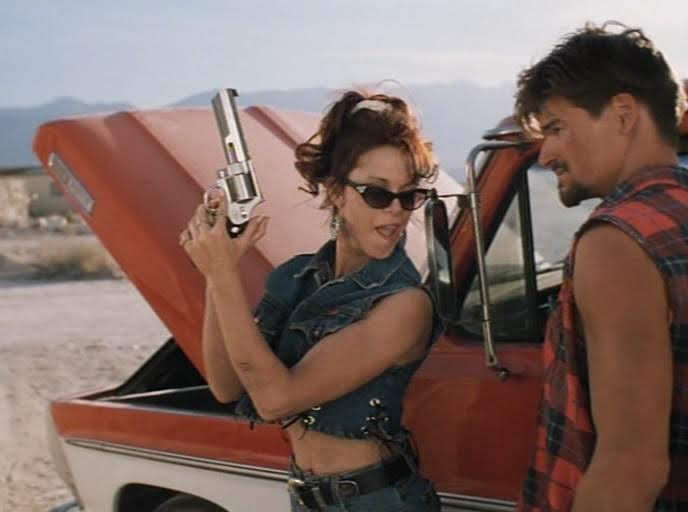gun: (181, 72, 296, 245)
